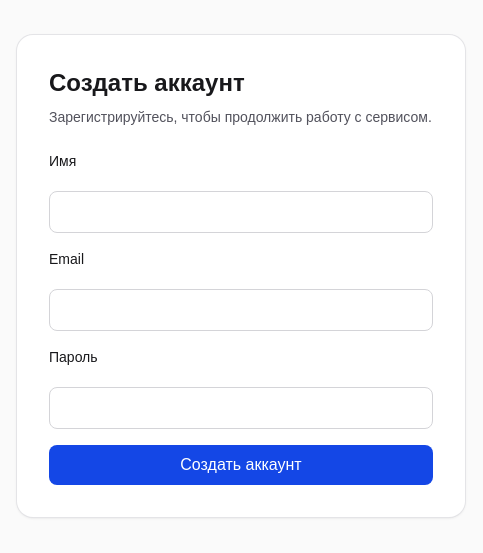
Test case: AuthForm › shows a duplicate-email error returned by the API
The width and height of the screenshot is (483, 553).
Type "Person" into the field labelled "Имя" at (241, 212), box [49,191,433,233]
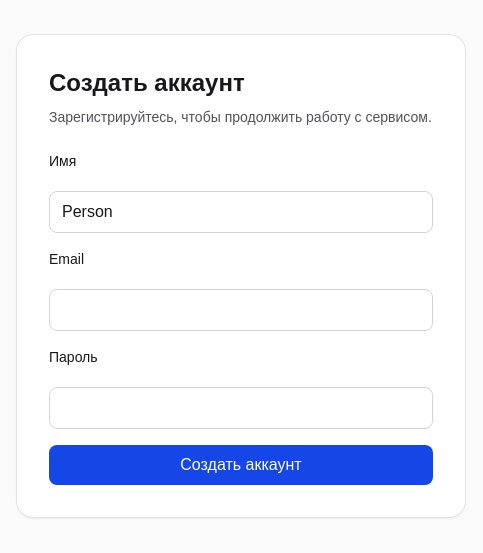
Type "person@example.com" into the field labelled "Email" at (241, 310), box [49,289,433,331]
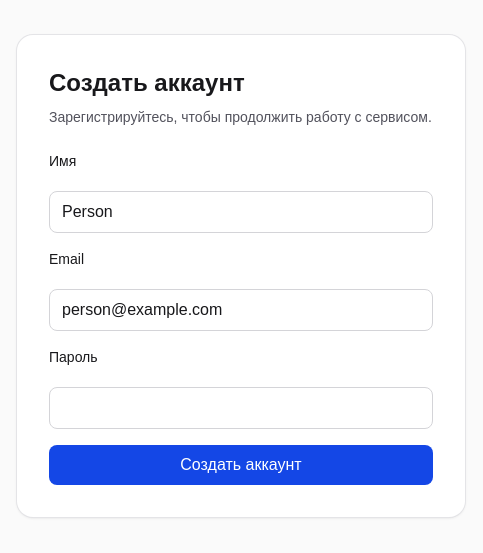
Type "password" into the password field labelled "Пароль" at (241, 408), box [49,387,433,429]
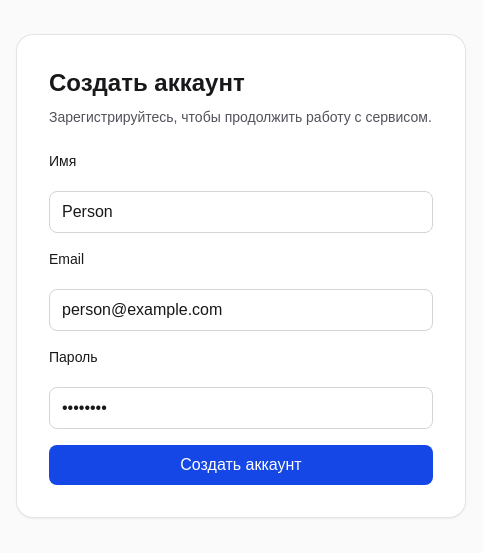
Submit the form "Создать аккаунт", box [49,151,433,485]
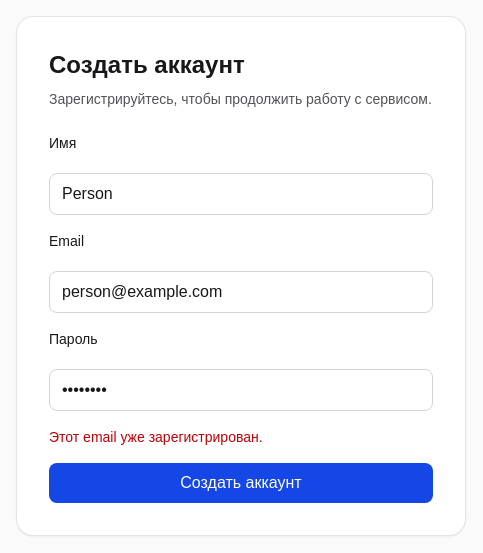
Now the message shows "уже зарегистрирован", box [49,429,263,445]
